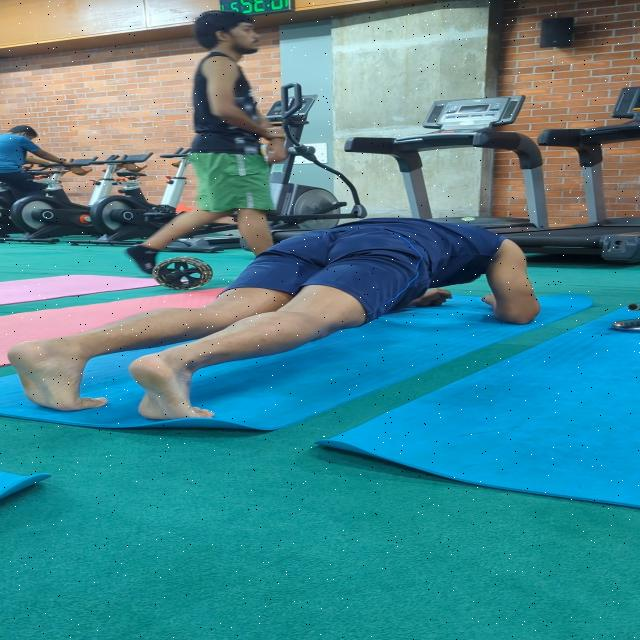Normal_Plunk: (0, 212, 547, 416)
